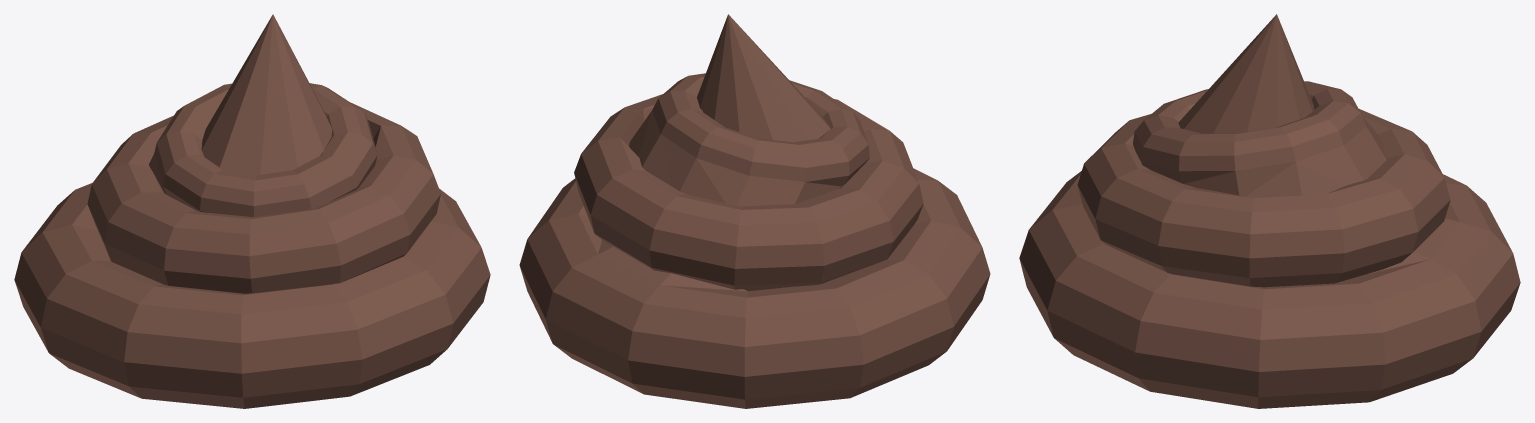
File: poop.obj
3 views of the same model, side by side, from view 1: azimuth 30°, elevation 25°; view 2: azimuth 150°, elevation 25°; view 3: azimuth 270°, elevation 25° (orthographic). The views are drawn at different scales.
Visible parts, largest first — view 1: group768862619, group614102396, group146530196, group152534298; view 2: group768862619, group614102396, group146530196, group152534298; view 3: group768862619, group614102396, group146530196, group152534298.
Boxes of the visible parts, box(x1,y1,x2,y2) form: group768862619: box(14, 183, 490, 408); group614102396: box(87, 102, 440, 293); group146530196: box(148, 83, 377, 216); group152534298: box(201, 14, 332, 175); group768862619: box(519, 168, 990, 408); group614102396: box(574, 94, 923, 291); group146530196: box(629, 73, 869, 206); group152534298: box(697, 14, 830, 142); group768862619: box(1019, 171, 1520, 408); group614102396: box(1077, 109, 1450, 287); group146530196: box(1133, 81, 1386, 198); group152534298: box(1178, 14, 1314, 133).
Bounding box in the file's own units: 0.5494 × 0.401 × 0.5492.
